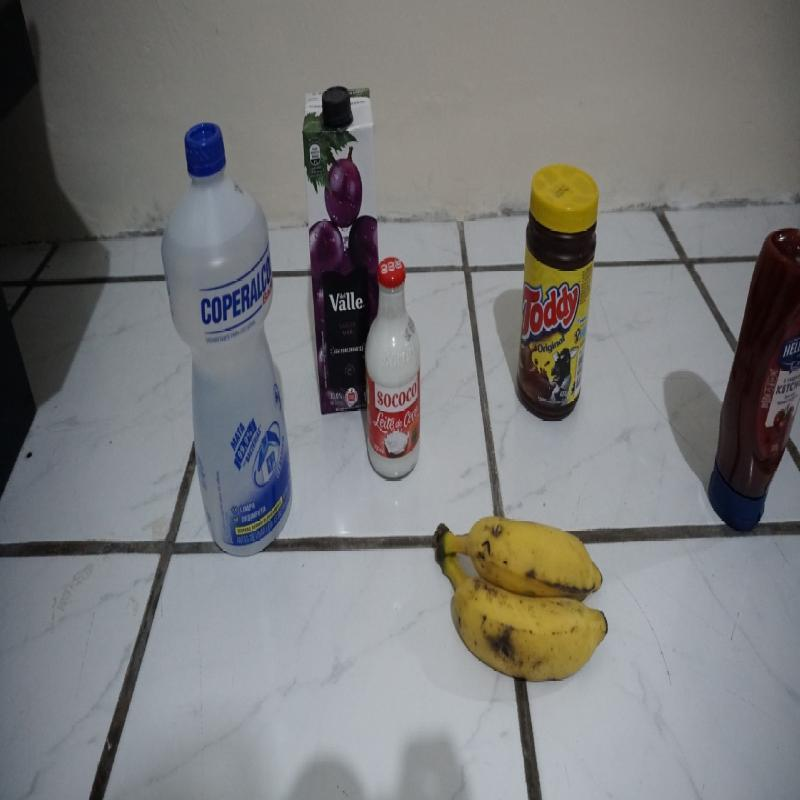Alcohol Bottle: (160, 118, 294, 560)
Banana: (429, 514, 610, 683)
Chocolate Powder: (515, 163, 600, 425)
Coconut Milk: (363, 257, 422, 486)
Ketchup: (705, 226, 800, 537)
